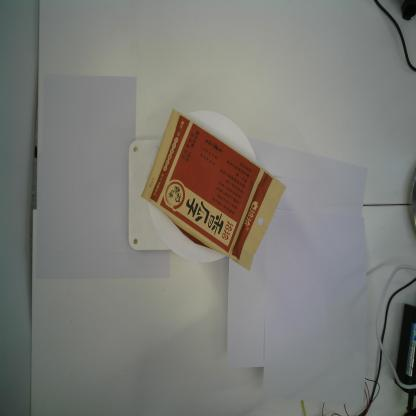Dried Food: (140, 108, 287, 271)
